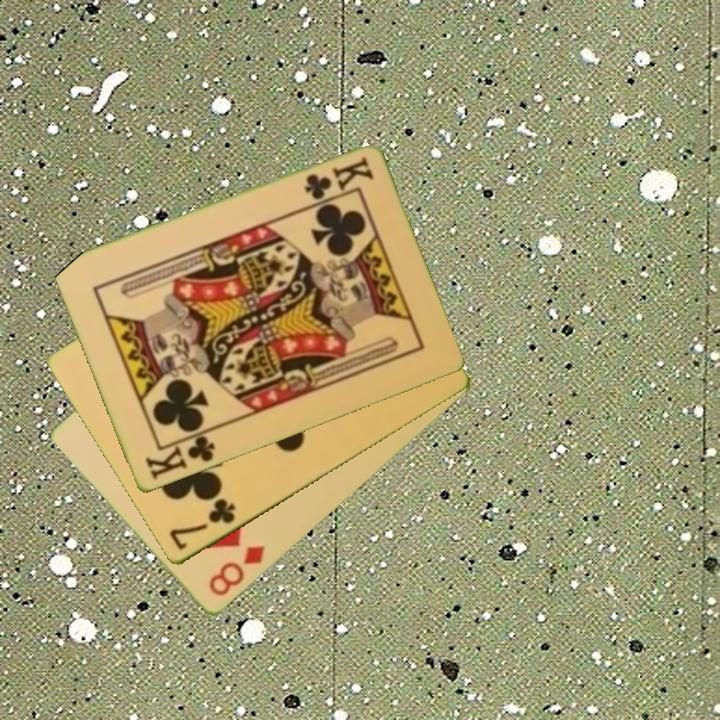7c: (165, 495, 239, 554)
8d: (205, 542, 268, 600)
Kc: (141, 427, 218, 484), (300, 153, 376, 203)
